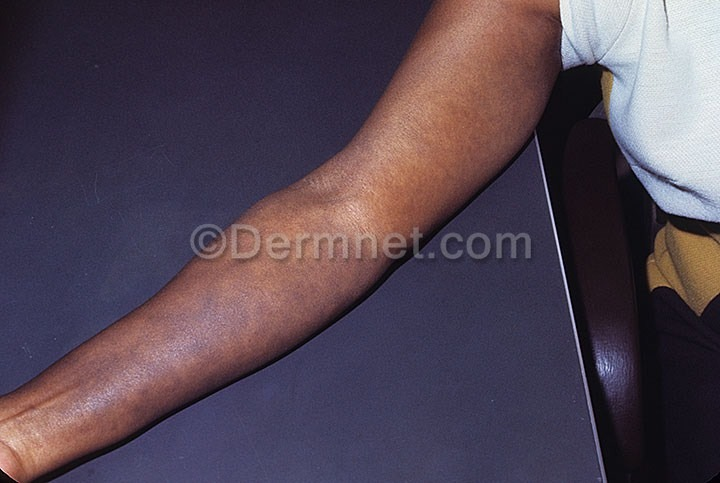Melasma: (262, 138, 464, 411)
